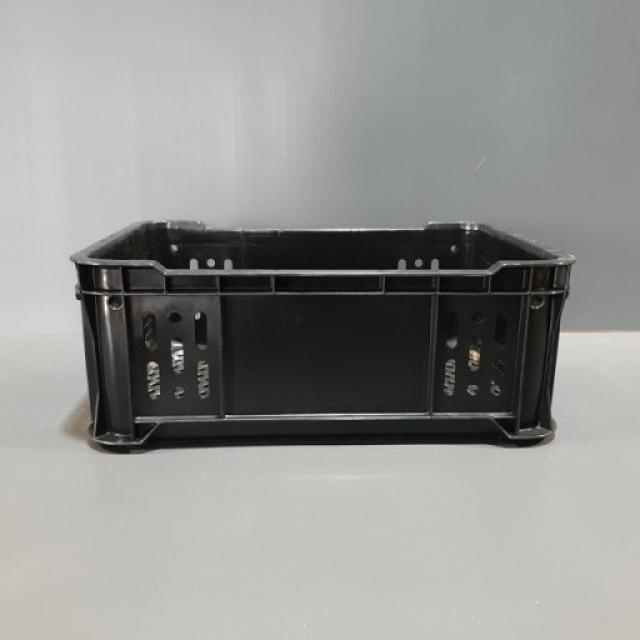basket: (71, 218, 578, 450)
